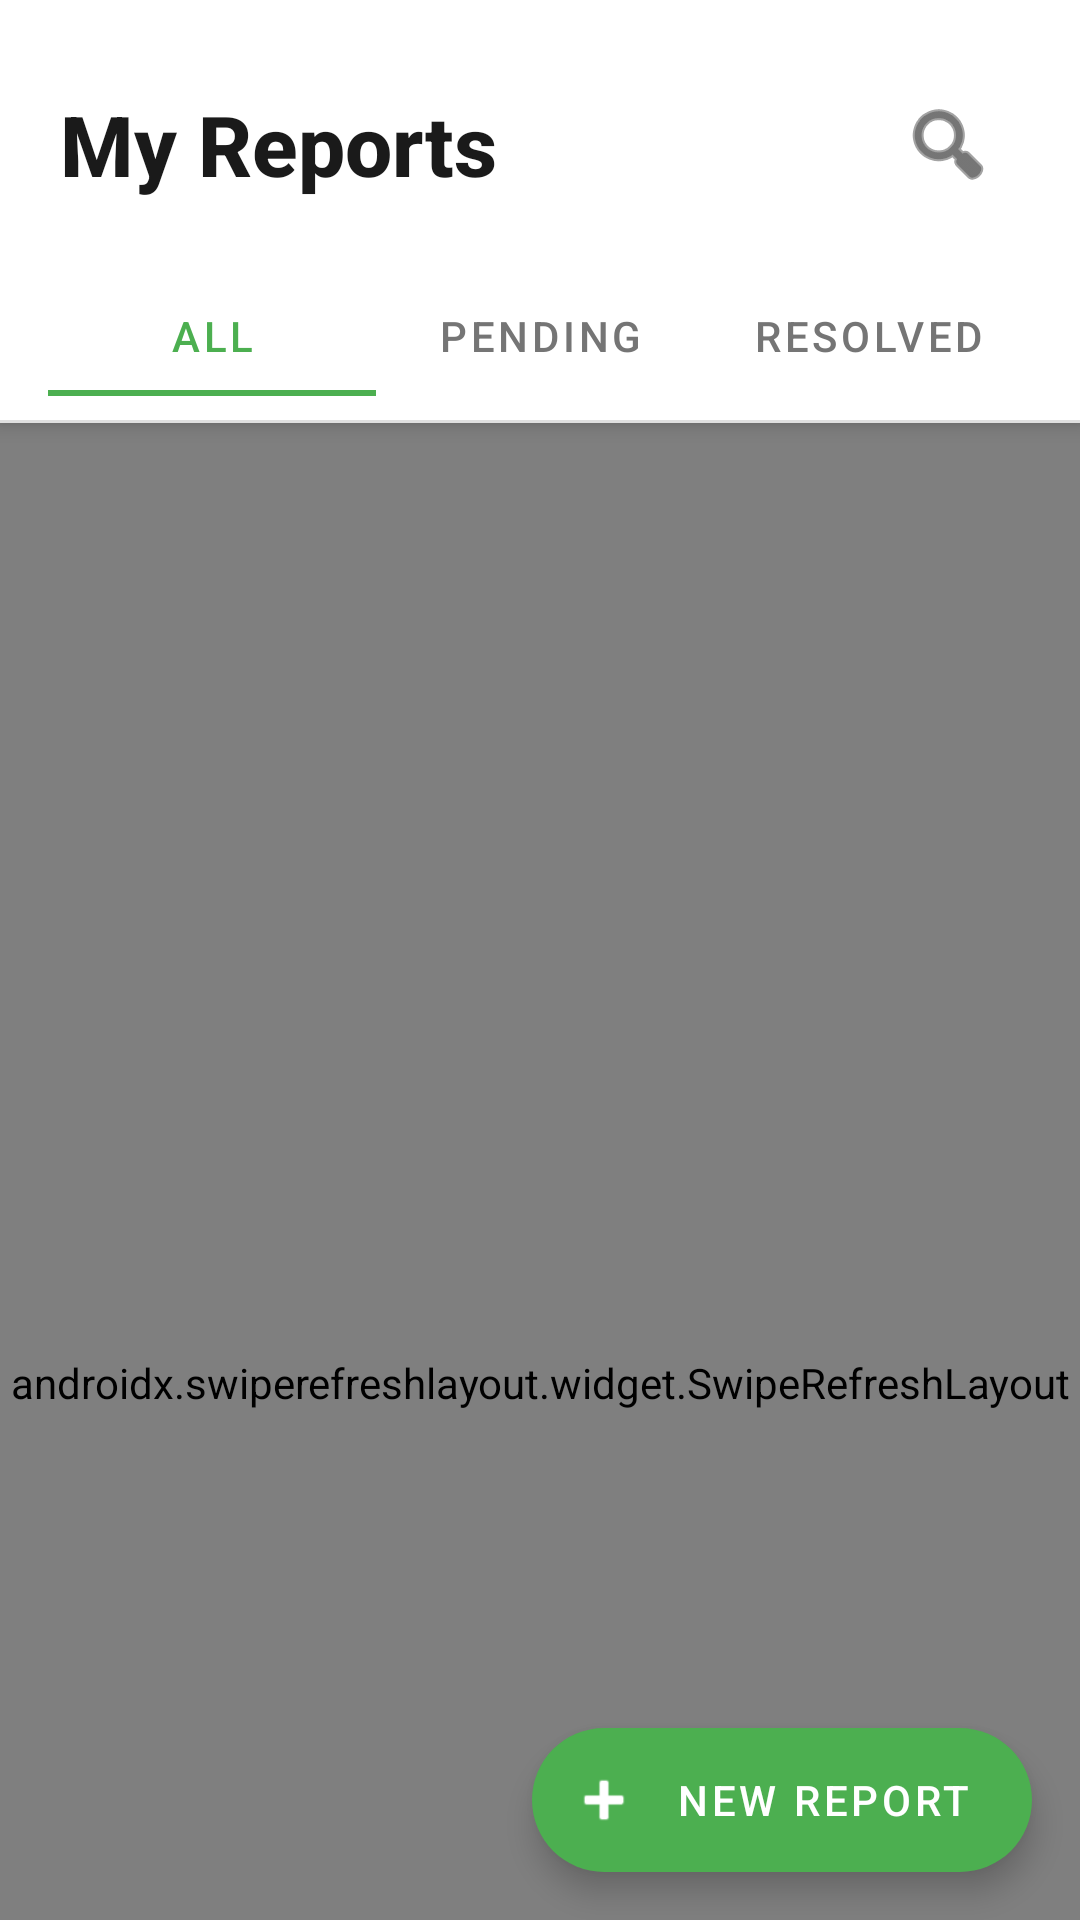

Locate icon controls on the screen. Image size 1080*1920, boxes as (x1, y1, x2, y2).
Search reports: (912, 109, 984, 180)
